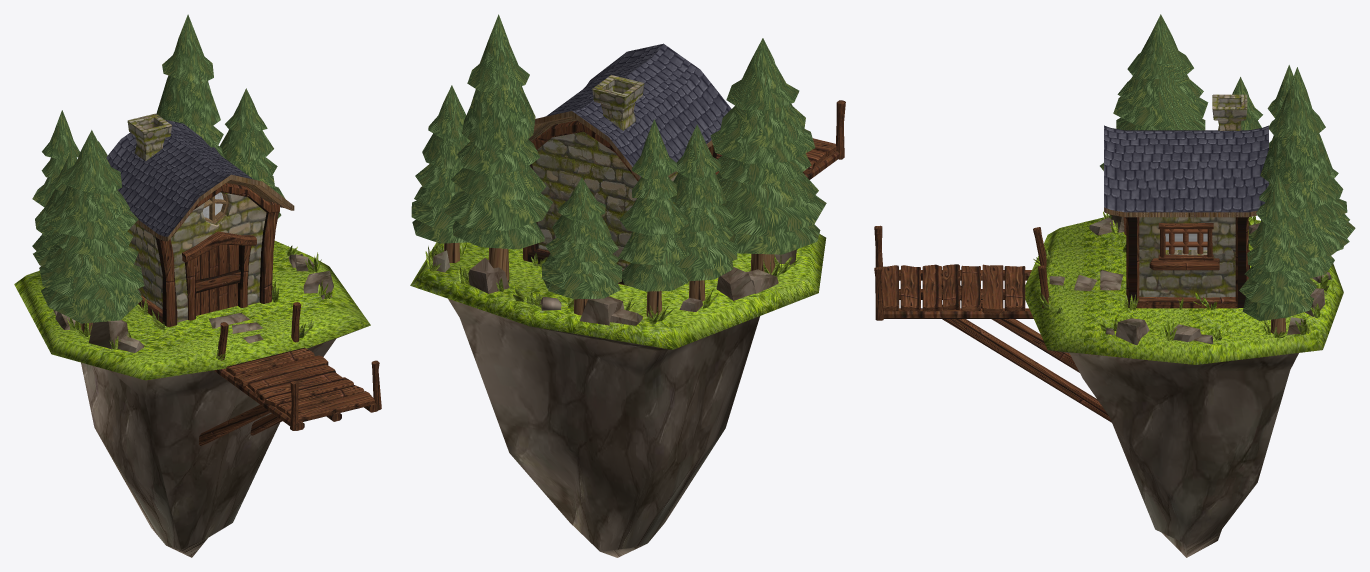
File: tiny_cabin_fantasy_textured_for_challenge.glb
The picture shows the model from 3 angles, left to right: view 1: azimuth 30°, elevation 25°; view 2: azimuth 150°, elevation 25°; view 3: azimuth 270°, elevation 25°; orthographic projection. The views are drawn at different scales.
Parts seen in each view (by area): view 1: Object_6, Object_3, Object_5, Object_2, Object_8, Object_4, Object_12, Object_9, Object_7; view 2: Object_6, Object_3, Object_2, Object_8, Object_4, Object_12, Object_5, Object_13, Object_7, Object_9; view 3: Object_3, Object_6, Object_2, Object_5, Object_8, Object_4, Object_12, Object_7, Object_9, Object_14.
Part boxes in pixels (left/top/right/bottom): Object_6: left=32, top=14, right=284, bottom=323; Object_3: left=81, top=329, right=360, bottom=557; Object_5: left=138, top=183, right=381, bottom=445; Object_2: left=14, top=241, right=370, bottom=380; Object_8: left=106, top=119, right=253, bottom=236; Object_4: left=127, top=113, right=266, bottom=322; Object_12: left=53, top=254, right=333, bottom=352; Object_9: left=136, top=174, right=294, bottom=241; Object_7: left=67, top=245, right=332, bottom=360; Object_6: left=411, top=14, right=826, bottom=299; Object_3: left=448, top=298, right=759, bottom=557; Object_2: left=410, top=234, right=826, bottom=349; Object_8: left=544, top=43, right=731, bottom=177; Object_4: left=532, top=75, right=678, bottom=269; Object_12: left=432, top=249, right=796, bottom=325; Object_5: left=523, top=100, right=845, bottom=285; Object_13: left=444, top=242, right=774, bottom=317; Object_7: left=425, top=242, right=799, bottom=324; Object_9: left=528, top=111, right=712, bottom=179; Object_3: left=1050, top=350, right=1298, bottom=557; Object_6: left=1100, top=14, right=1355, bottom=320; Object_2: left=1025, top=217, right=1343, bottom=364; Object_5: left=874, top=217, right=1249, bottom=422; Object_8: left=1104, top=125, right=1268, bottom=212; Object_4: left=1139, top=94, right=1247, bottom=297; Object_12: left=1049, top=215, right=1331, bottom=345; Object_7: left=1033, top=211, right=1328, bottom=341; Object_9: left=1104, top=207, right=1257, bottom=217; Object_14: left=1165, top=229, right=1207, bottom=254.
Size of the model in its own units: 6.73 by 10.54 by 8.91.
13 materials, 12 textured.
